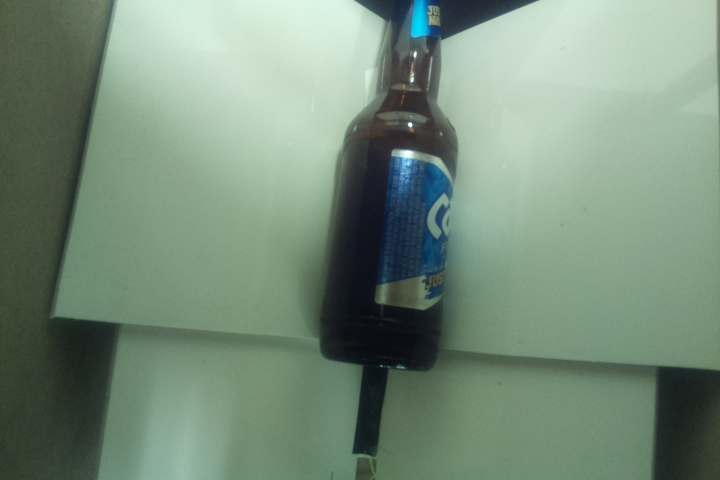makju: (320, 1, 464, 373)
